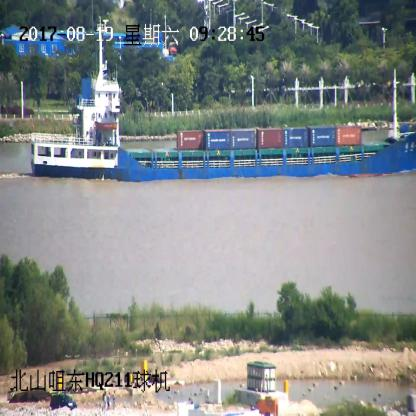Bulk Carrier: (27, 42, 416, 180)
